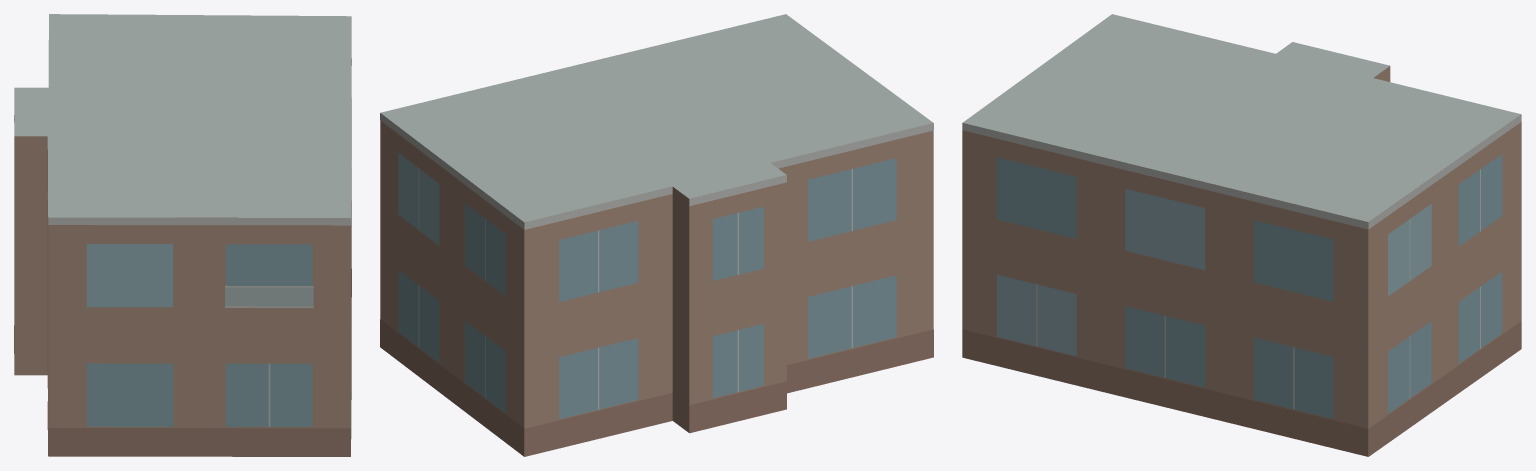
The model's file is survey-upis-32703956.glb.
3 renders of one model, left to right at view 1: azimuth 30°, elevation 25°; view 2: azimuth 150°, elevation 25°; view 3: azimuth 270°, elevation 25°, orthographic.
Parts seen in each view (by area): view 1: survey-upis-32703956.tmp; view 2: survey-upis-32703956.tmp; view 3: survey-upis-32703956.tmp.
Boxes of the visible parts, x1,y1,x2,y2 form: survey-upis-32703956.tmp: [14, 14, 351, 456]; survey-upis-32703956.tmp: [380, 14, 933, 456]; survey-upis-32703956.tmp: [962, 14, 1521, 456].
Size of the model in its own units: 14.65 by 7.7 by 16.63.
